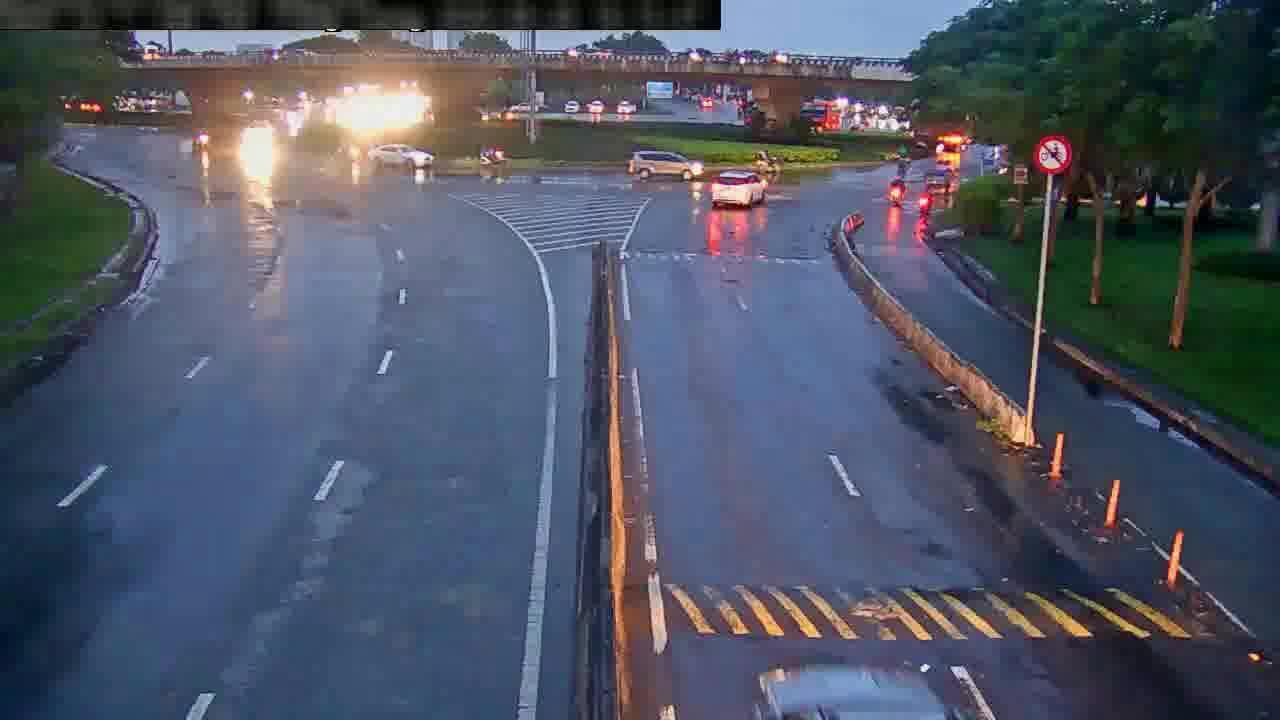container: (629, 143, 704, 181), (711, 172, 771, 213), (364, 138, 435, 172)
motorbike: (890, 172, 906, 207), (916, 181, 931, 217)
